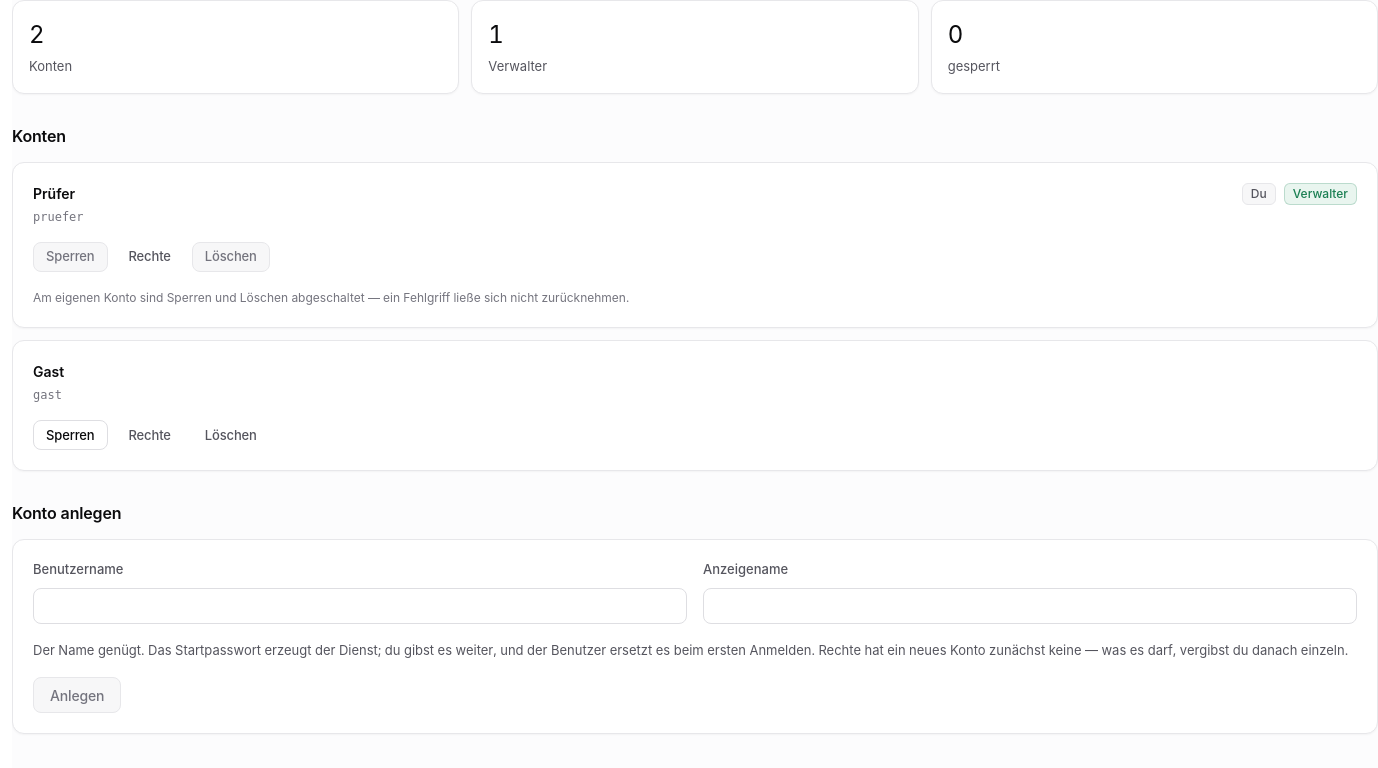
Test case: Verwaltungsseite › zeigt die Meldung des Backends, statt sie zu verschlucken
Click the button with aria-label "gast löschen": [231, 435] box [192,420,270,450]
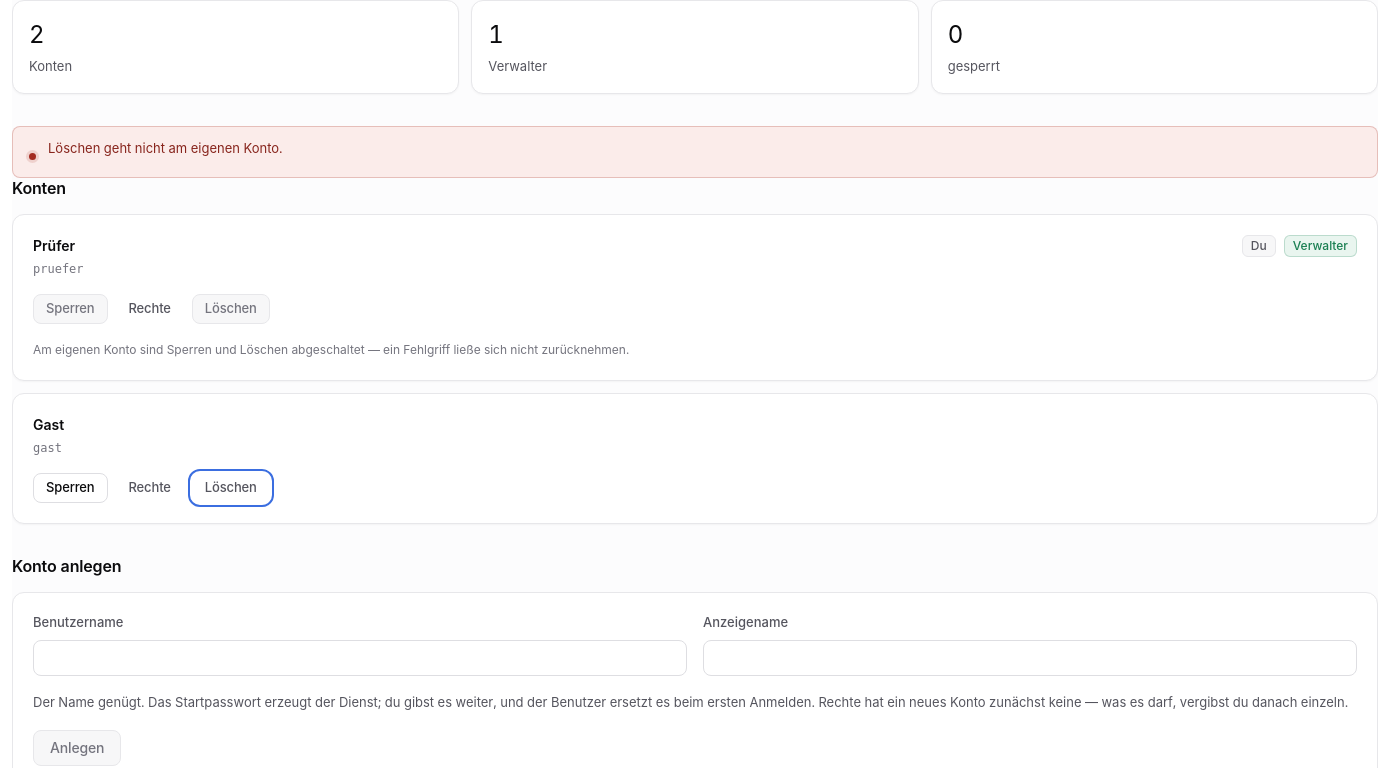
Expected: the message shows "eigenen Konto", [48,140,282,156]
